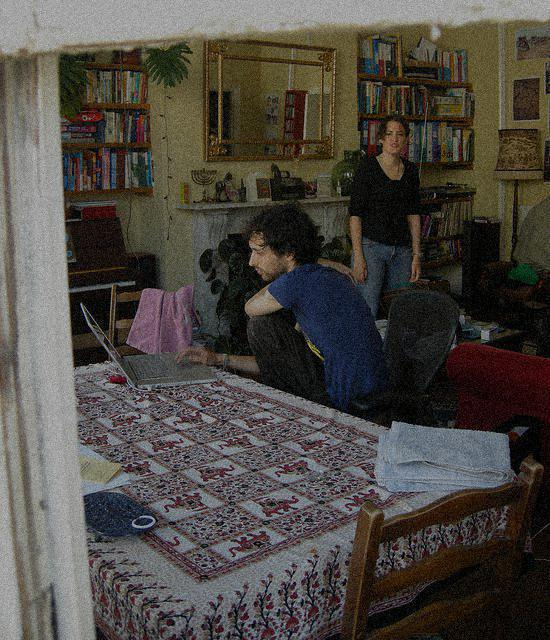Matera: (194, 229, 350, 412)
